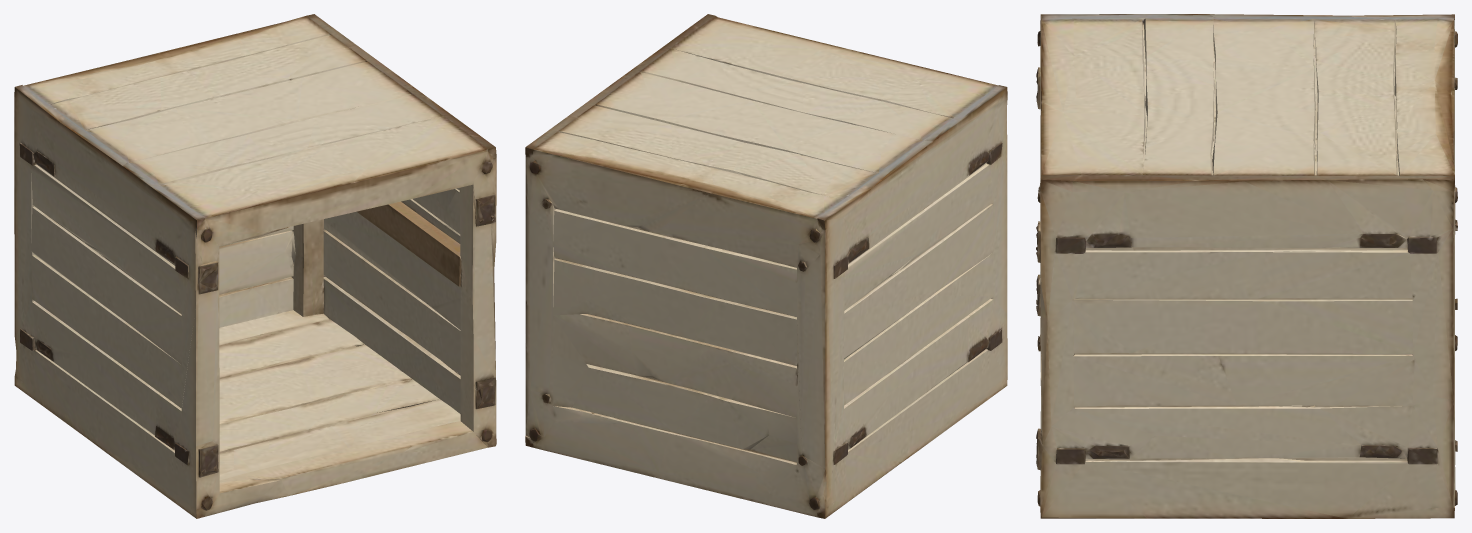
File: p2_crate_open.glb
The picture shows the model from 3 angles, left to right: view 1: azimuth 30°, elevation 25°; view 2: azimuth 150°, elevation 25°; view 3: azimuth 270°, elevation 25°; orthographic projection. The views are drawn at different scales.
Parts seen in each view (by area): view 1: main; view 2: main; view 3: main.
Part boxes in pixels (x1,y1,x2,y2): main: (14,14,496,518); main: (525,14,1007,518); main: (1036,14,1457,518).
Bounding box in the file's own units: 0.9702 × 0.9097 × 1.02.
1 material, 1 textured.
